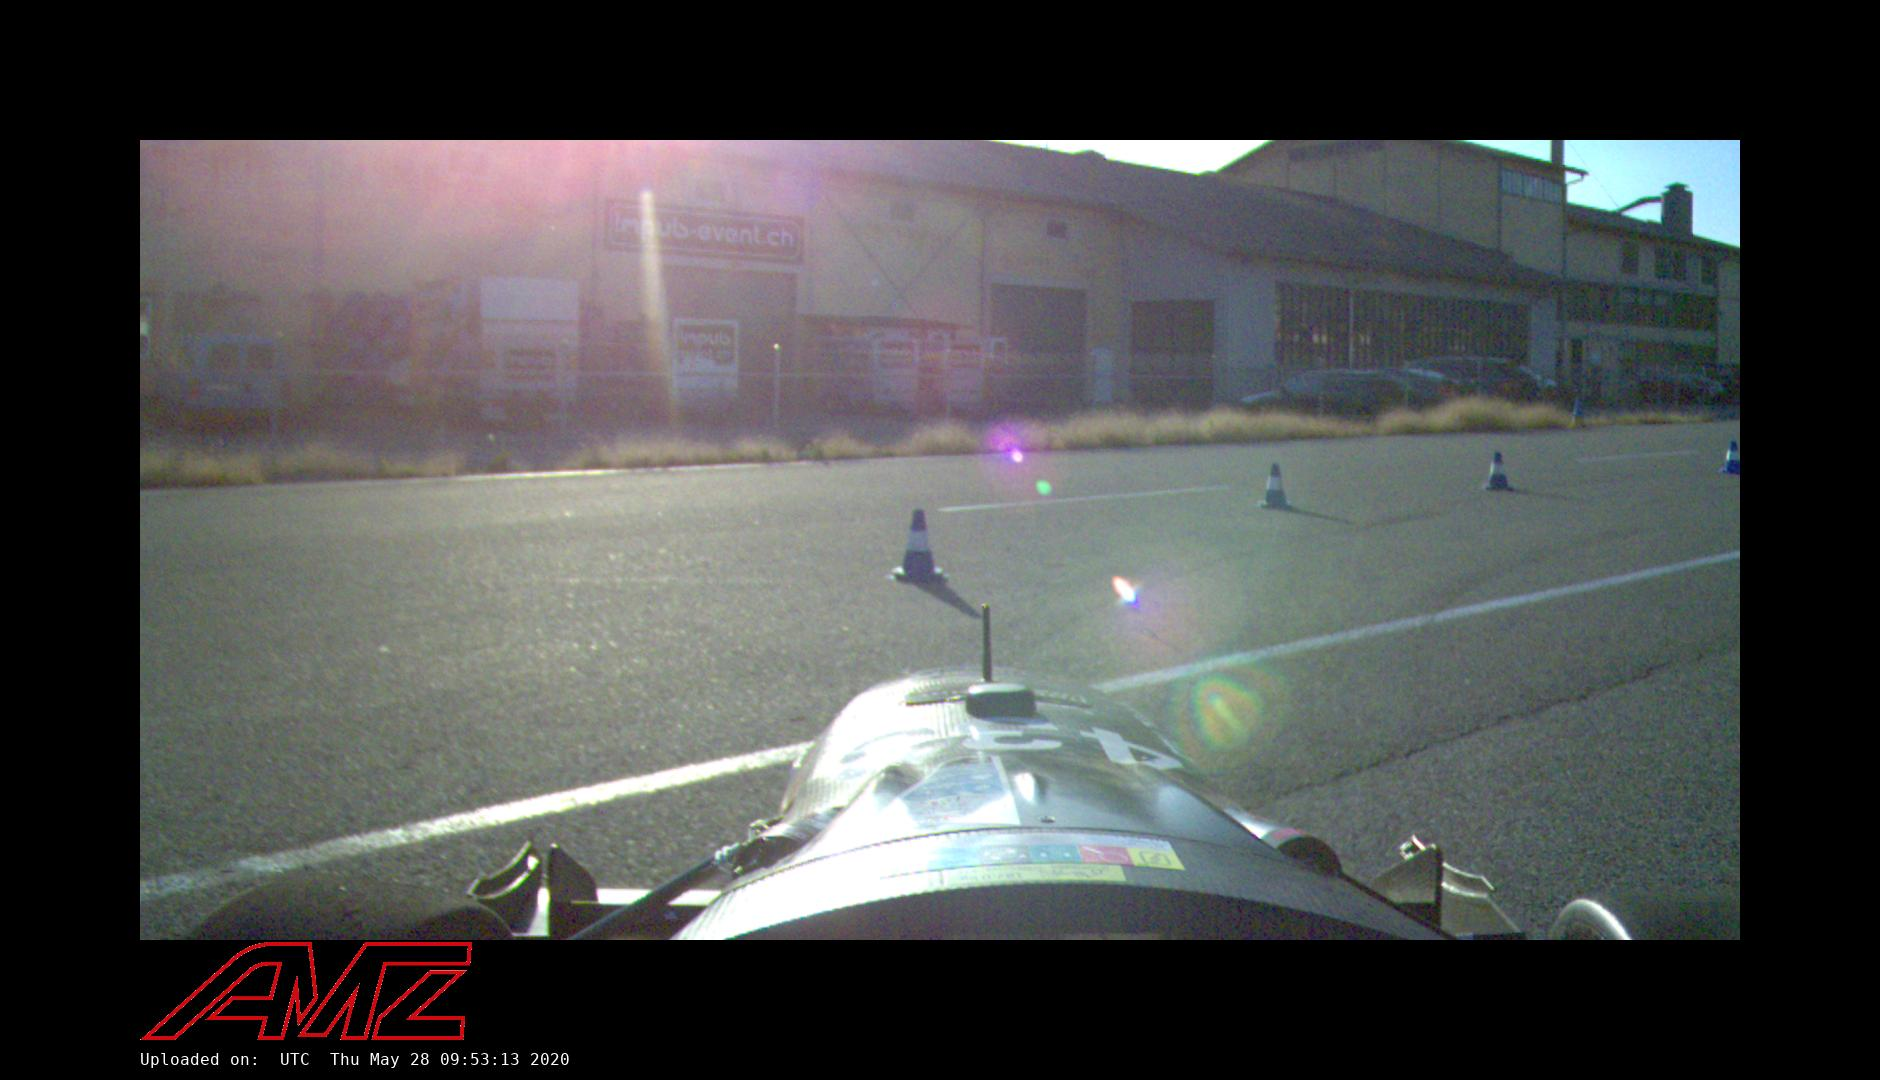blue_cone: (884, 510, 952, 583), (1254, 462, 1295, 509), (1480, 451, 1515, 491), (1717, 441, 1739, 474)
